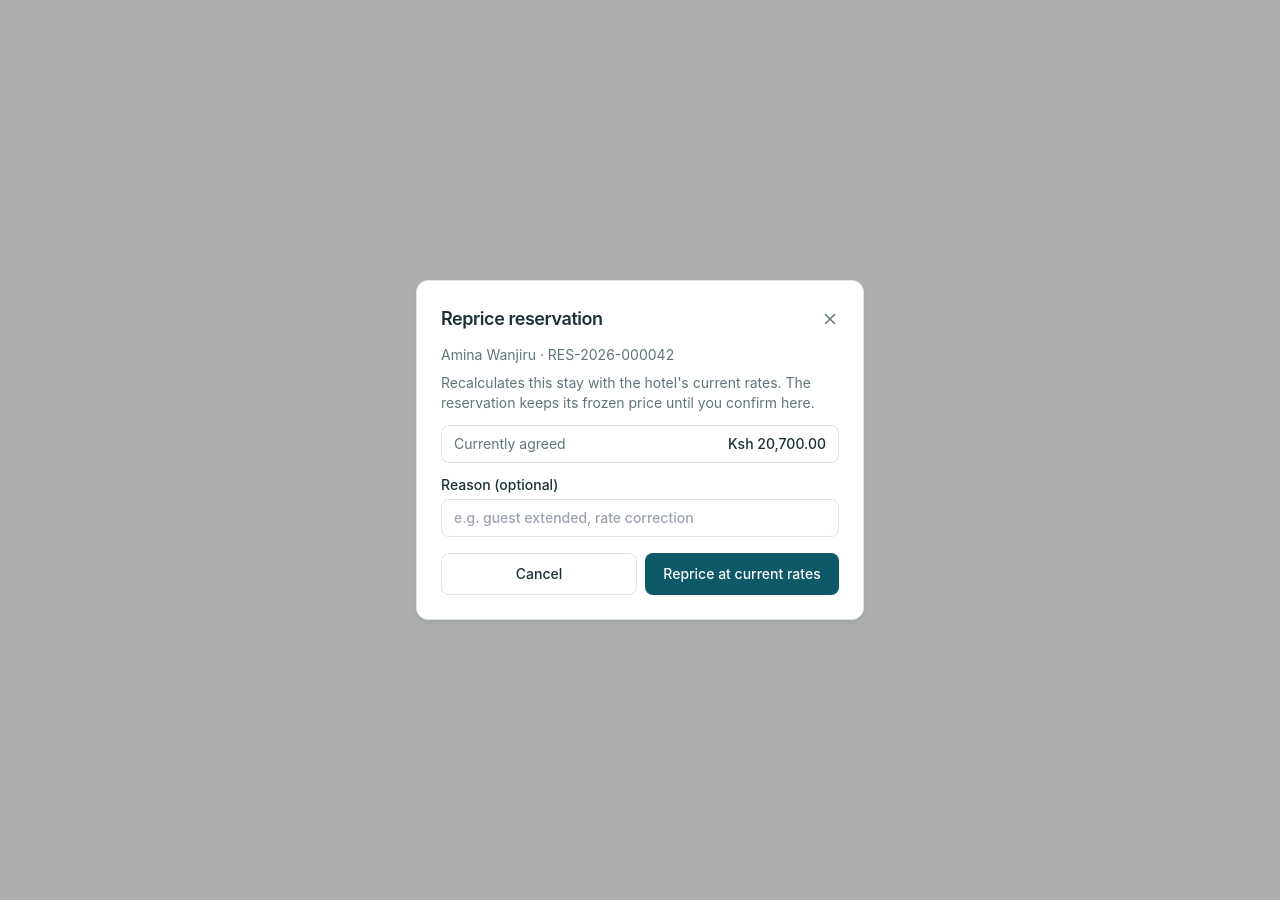
it: RepriceDialog › surfaces a refusal and does not claim the price moved
Click the button "Reprice at current rates": (742, 574) [645,553,839,595]
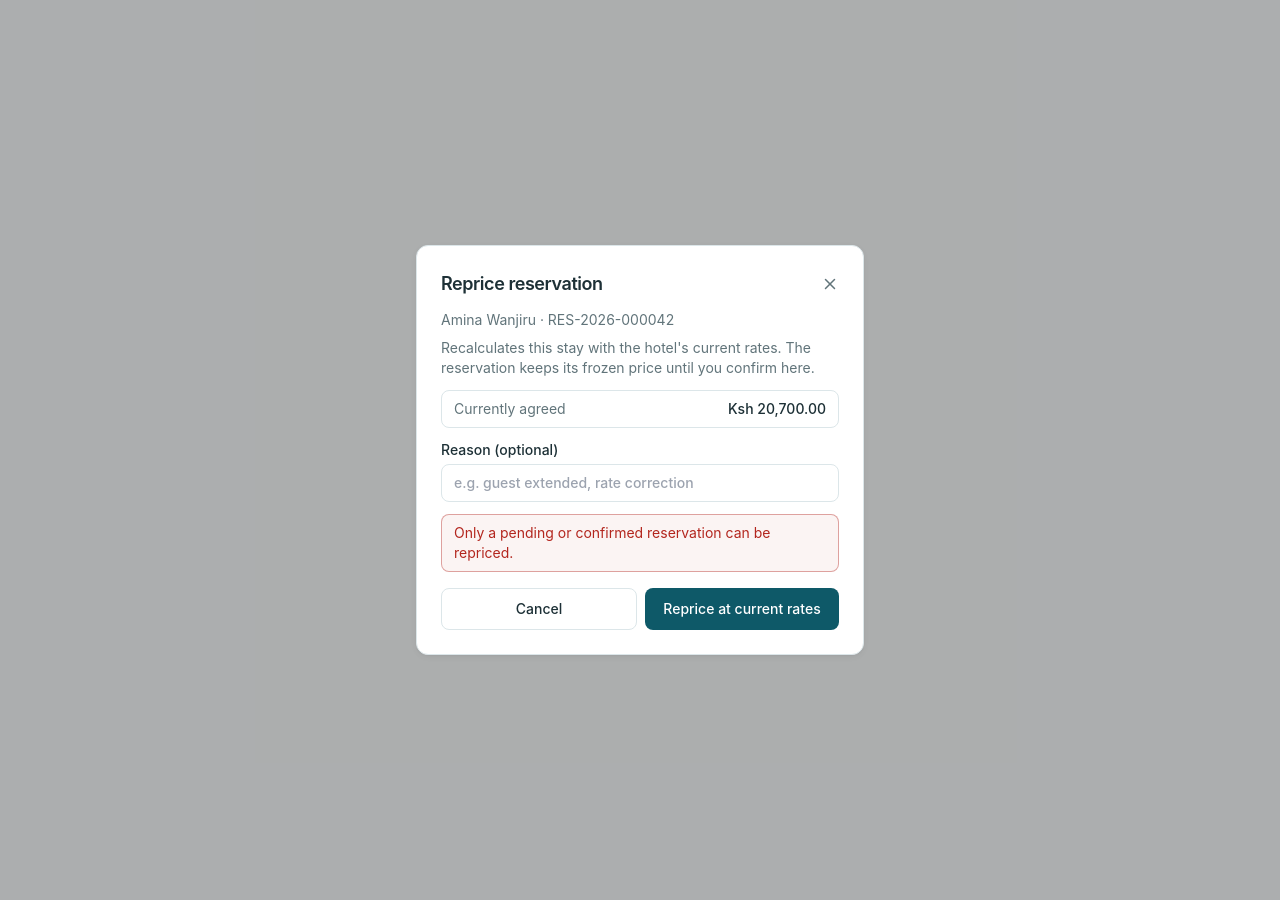
Now the message shows "Only a pending or confirmed reservation", box [454,524,770,561]
